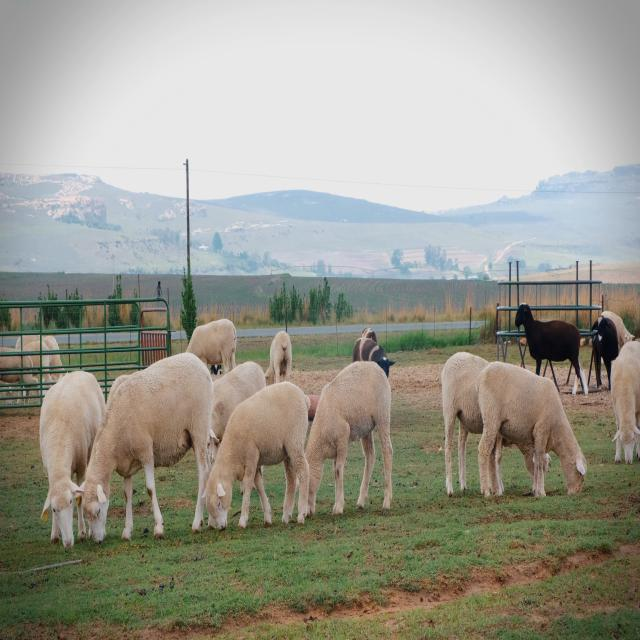sheep: (84, 349, 206, 558), (474, 328, 589, 518), (204, 369, 315, 555), (34, 360, 82, 554), (601, 334, 640, 472)
